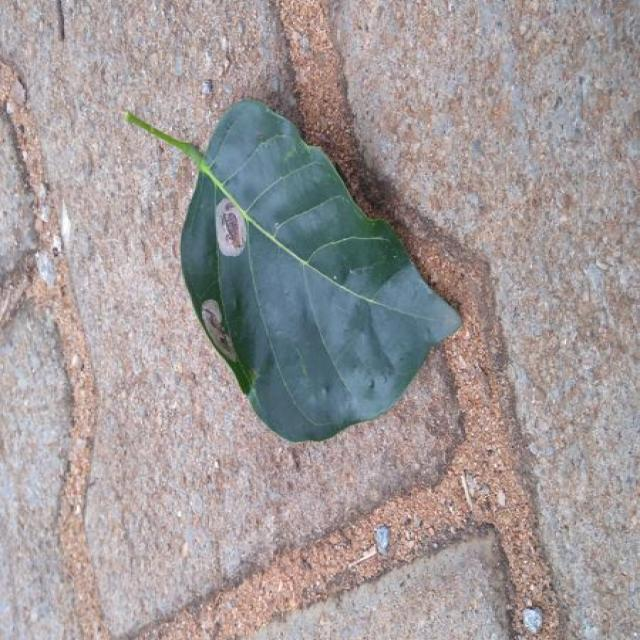honge: (127, 100, 460, 441)
powdery mildew: (182, 178, 268, 393)
